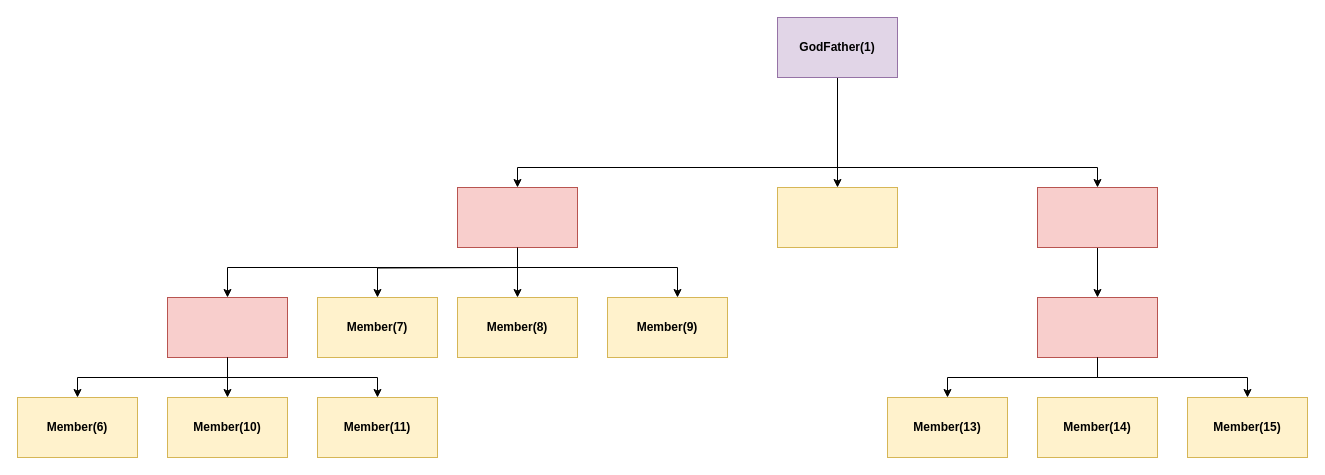
The diagram is 1325 pixels wide and 475 high, and some of its shapes have lost their labels. Here are the shapes that lost their labels. From the top down, the centre of each, then its label:
At pixel 517 217: "Boss(2)".
At pixel 837 217: "Member(3)".
At pixel 1097 217: "Boss(4)".
At pixel 227 327: "Boss(5)".
At pixel 1097 327: "Member(12)".
